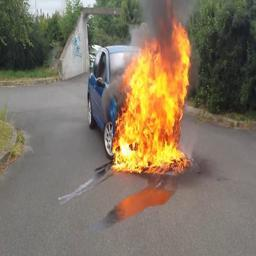fire: (112, 19, 192, 171)
